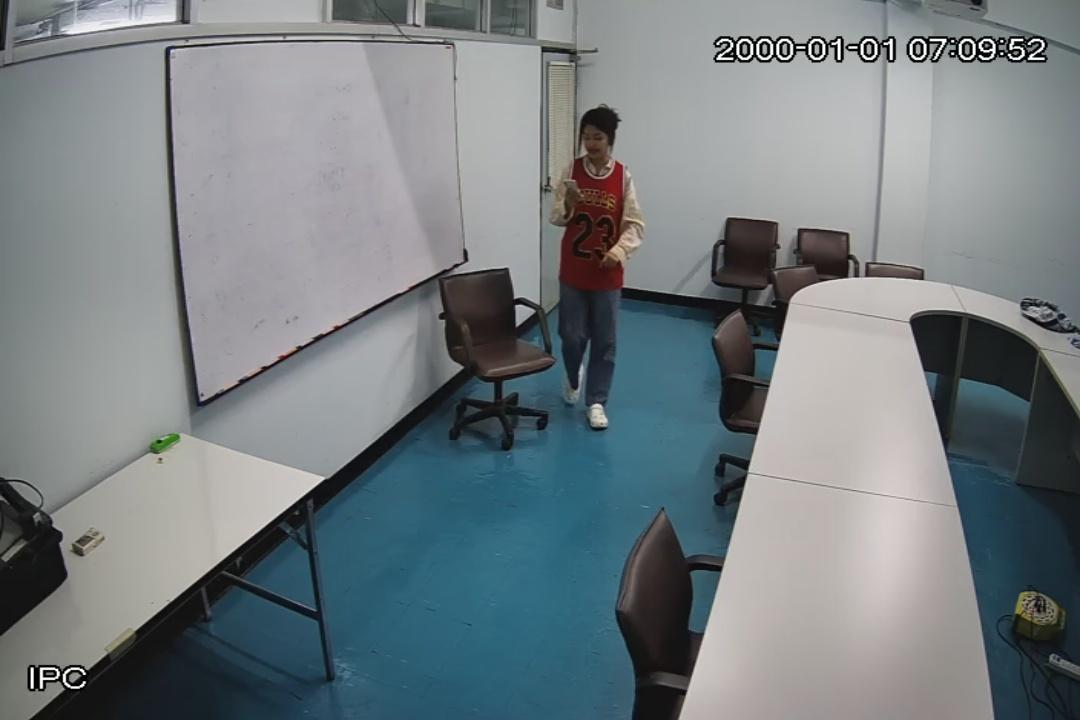normal: (549, 107, 645, 430)
